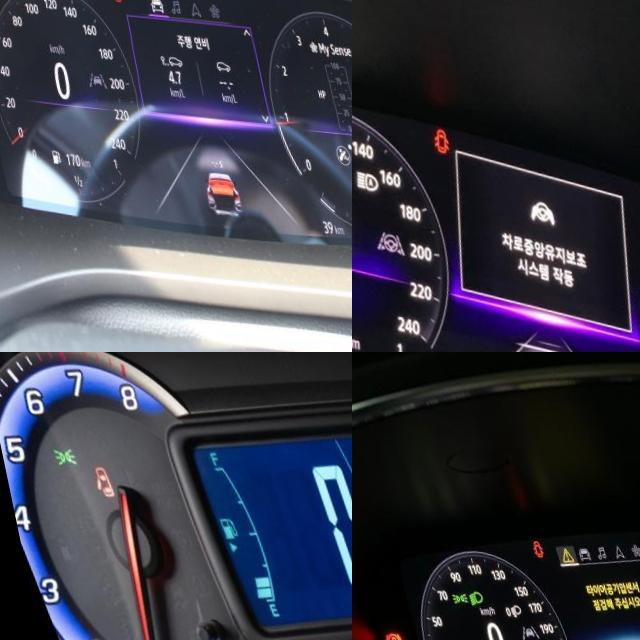Central Warning lamp: (549, 541, 564, 558)
Doors: (76, 462, 104, 497), (418, 119, 444, 150), (520, 533, 534, 552)
Low beam: (454, 584, 471, 603)
SideLamp: (39, 444, 67, 468), (437, 586, 454, 601)
